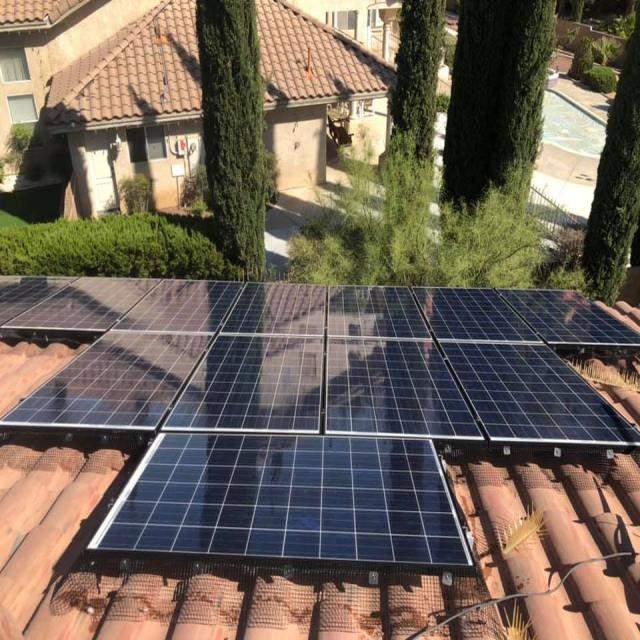clean-solar-panel: (0, 280, 640, 570)
